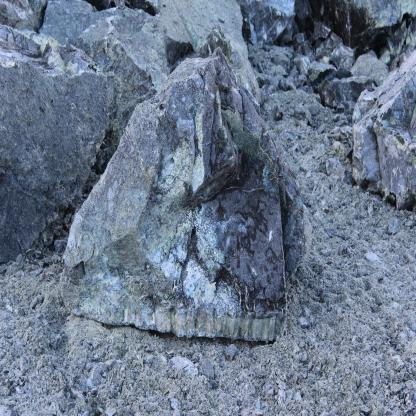stone: (60, 48, 314, 344), (0, 4, 165, 261), (351, 48, 416, 216), (309, 57, 339, 90)
